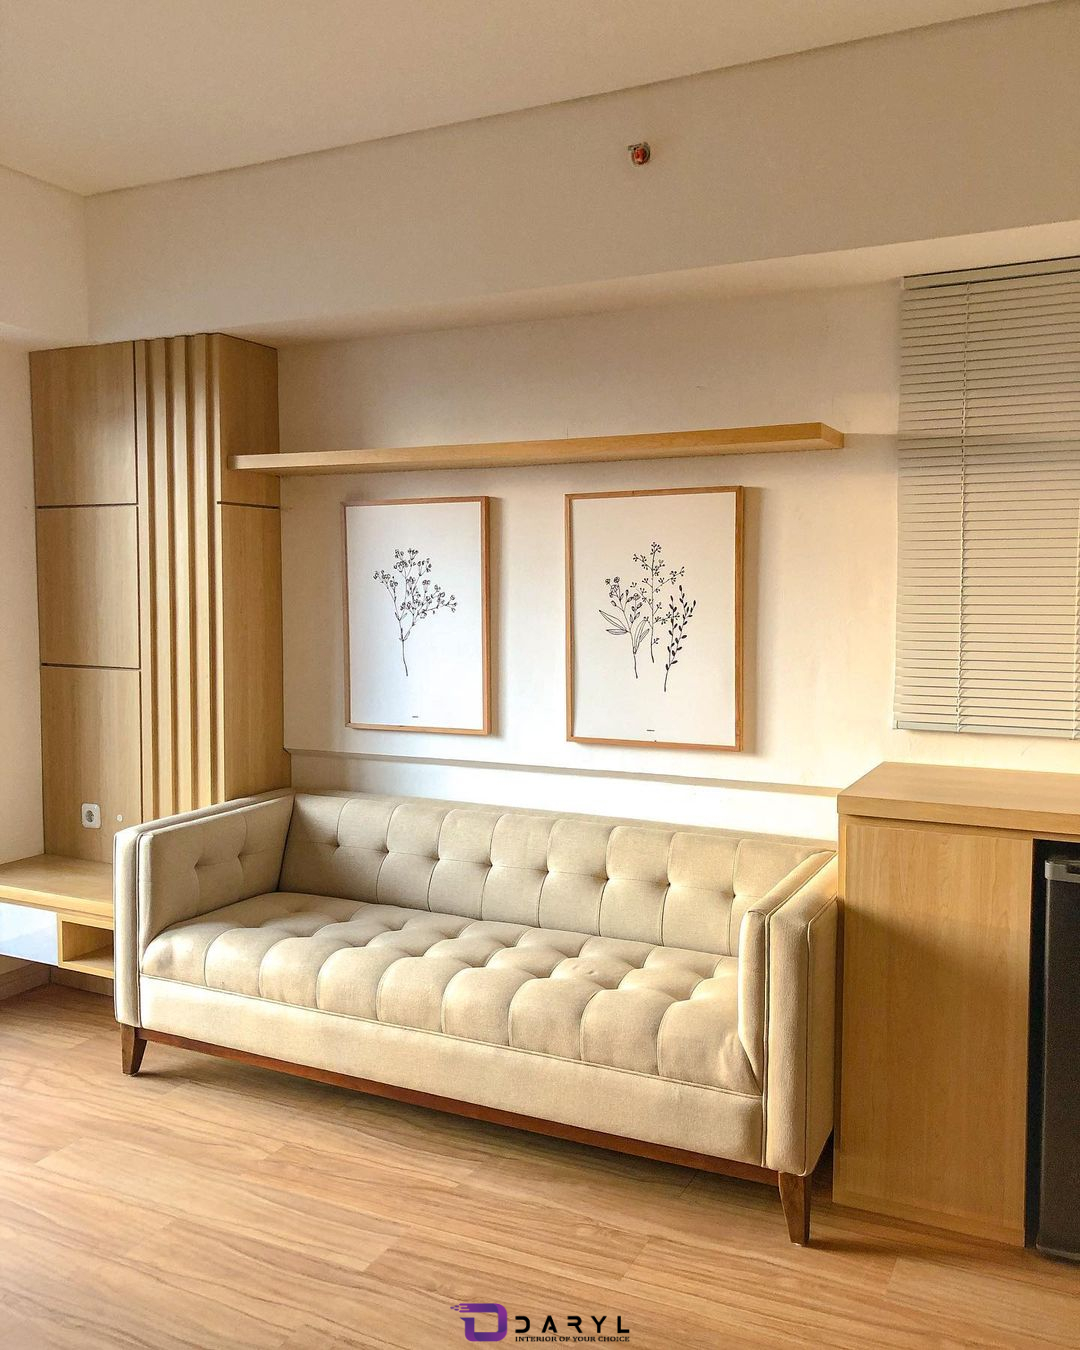sova: (95, 779, 838, 1224)
